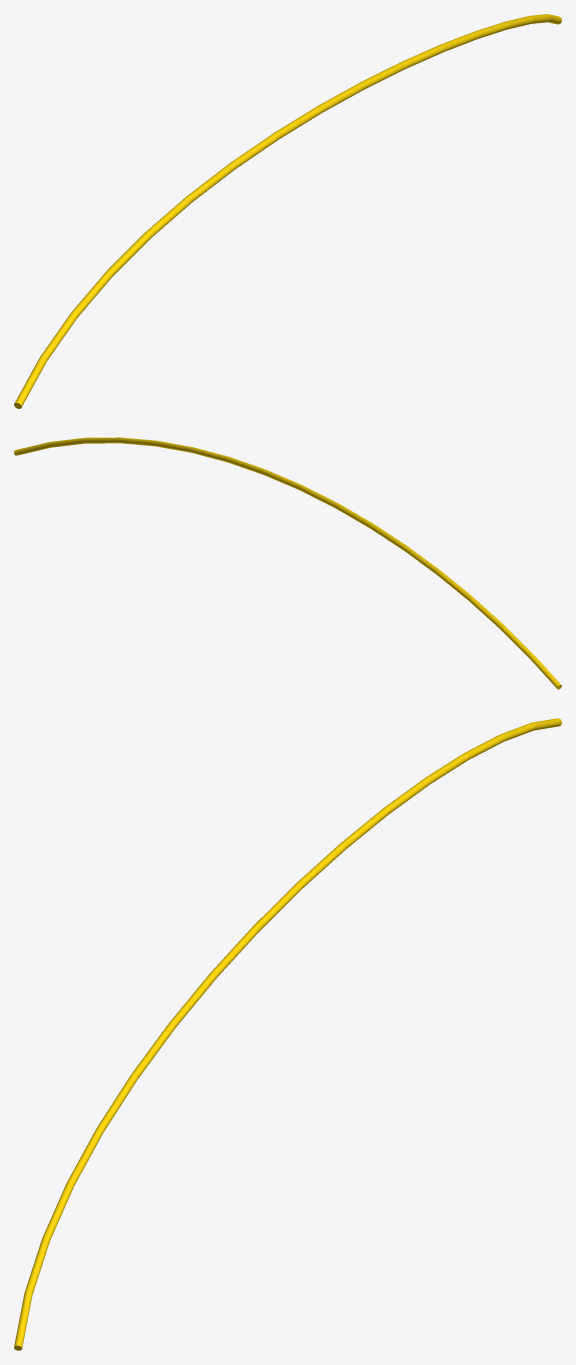
File: Event_421364160_track_87.fbx
The picture shows the model from 3 angles, top to bottom: view 1: azimuth 90°, elevation 25°; view 2: azimuth 150°, elevation 25°; view 3: azimuth 270°, elevation 25°; orthographic projection. The views are drawn at different scales.
Visible parts, largest first — view 1: Model; view 2: Model; view 3: Model.
Boxes of the visible parts, x1=… form: Model: x1=14, y1=14, x2=561, y2=408; Model: x1=14, y1=437, x2=561, y2=689; Model: x1=14, y1=718, x2=561, y2=1350.
Size of the model in its own units: 5.78 by 0.9882 by 2.64.
